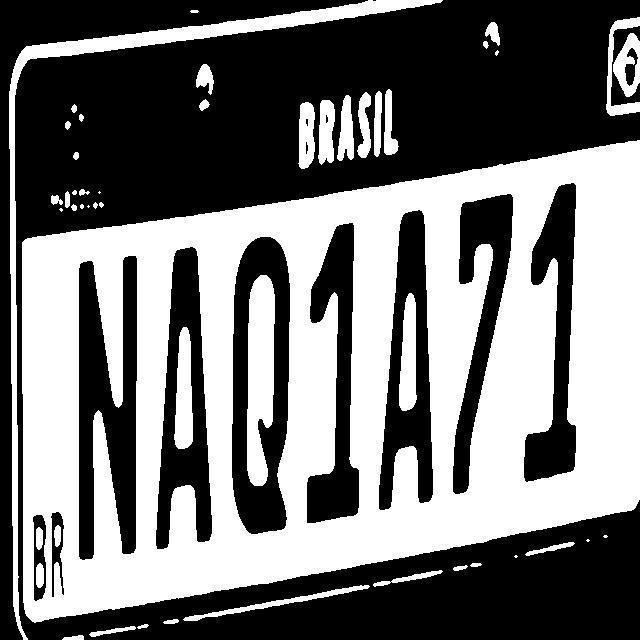1: (523, 184, 587, 482), (301, 228, 360, 524)
7: (450, 192, 516, 494)
a: (372, 196, 442, 507), (152, 240, 222, 538)
n: (72, 256, 142, 566)
q: (230, 237, 296, 528)
